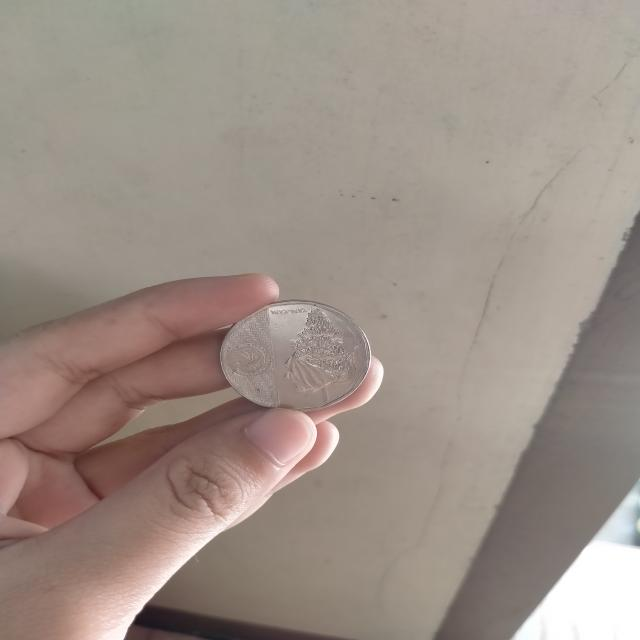10_New_Back: (273, 302, 375, 413)
